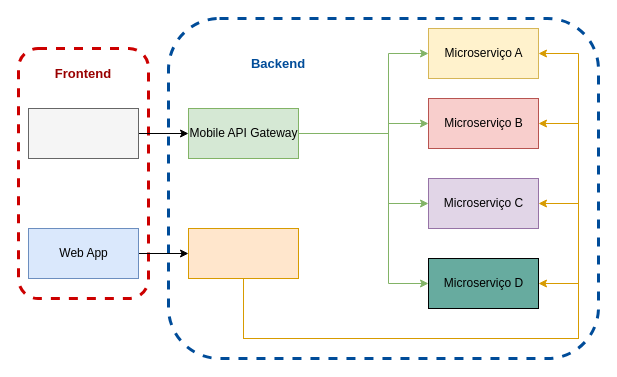
Some shapes in this 617 by 377 pixel diagram are drawn without their labels. Each missing label, with the centre of its shape:
Mobile App: point 83,133
Web API Gateway: point 243,253
